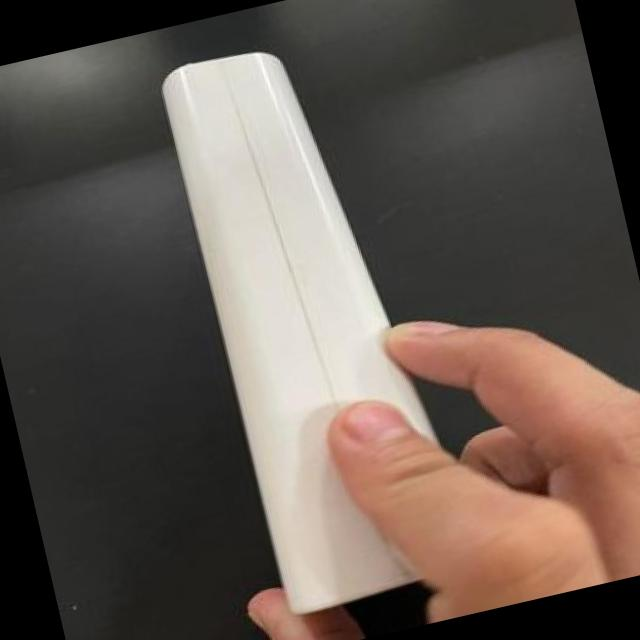power_bank: (140, 18, 462, 640)
